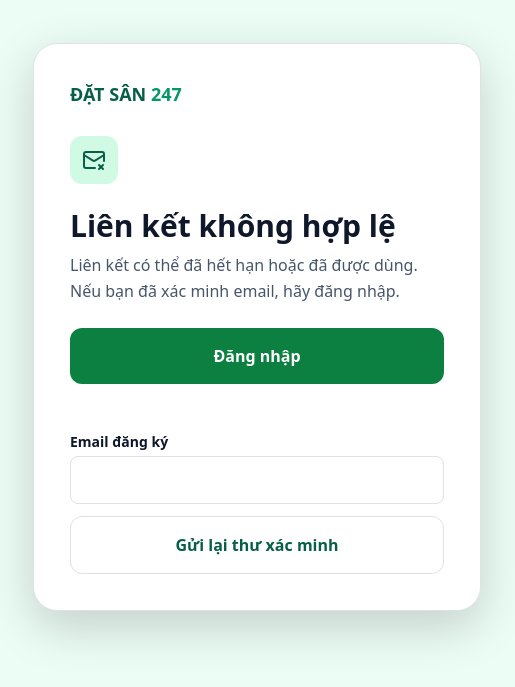
Test: email verification page › explains when Identity rate-limits resend
This screenshot has width=515, height=687.
Type "customer@example.test" into the field labelled "Email đăng ký" at (257, 480), box top-left (70, 456), bottom-right (444, 504)
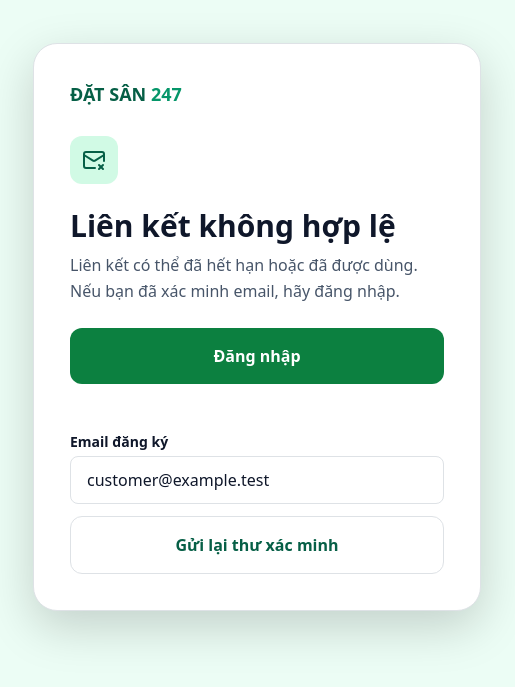
Click the button "Gửi lại thư xác minh" at (257, 545), box top-left (70, 516), bottom-right (444, 574)
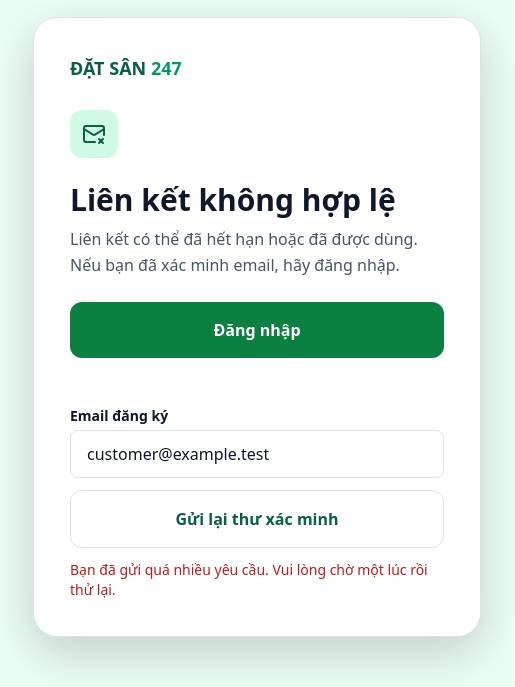
Expected: the button "Gửi lại thư xác minh" is enabled, top-left (70, 490), bottom-right (444, 548)
Result: the message shows "quá nhiều yêu cầu" at top-left (70, 560), bottom-right (428, 599)
